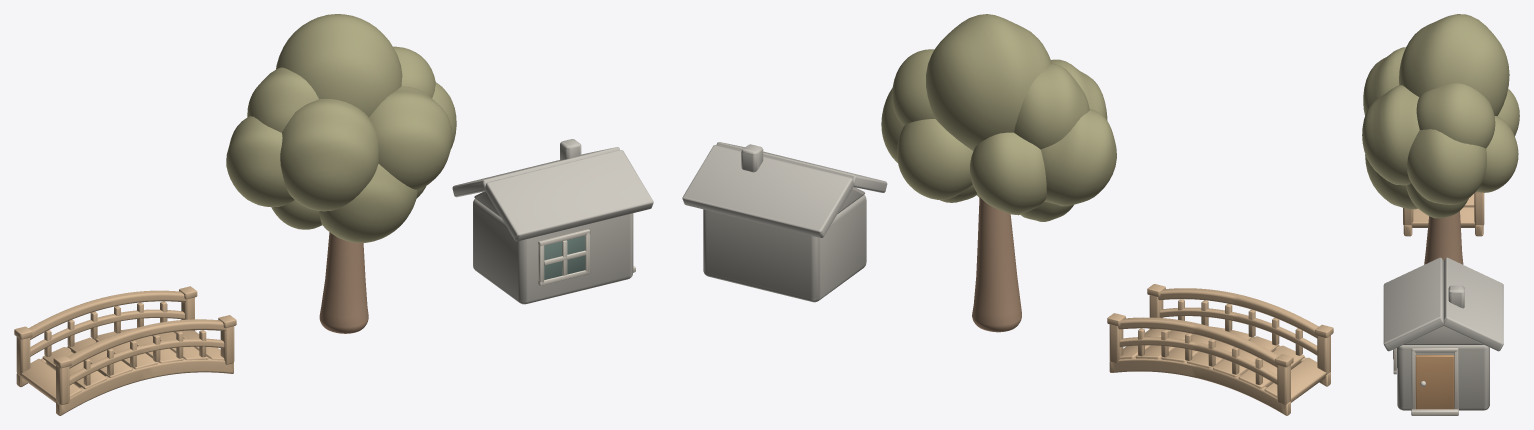
The model's file is park-referans-uclusu.glb.
3 renders of one model, left to right at view 1: azimuth 30°, elevation 25°; view 2: azimuth 150°, elevation 25°; view 3: azimuth 270°, elevation 25°, orthographic. The views are drawn at different scales.
Visible parts, largest first — view 1: 67R_AGAC_YUVARLAK_01_TAC, 67R_EV_KUCUK_01_BODY, 67R_KOPRU_KEMERLI_01_BODY, 67R_AGAC_YUVARLAK_01_GOVDE; view 2: 67R_AGAC_YUVARLAK_01_TAC, 67R_EV_KUCUK_01_BODY, 67R_KOPRU_KEMERLI_01_BODY, 67R_AGAC_YUVARLAK_01_GOVDE; view 3: 67R_AGAC_YUVARLAK_01_TAC, 67R_EV_KUCUK_01_BODY, 67R_AGAC_YUVARLAK_01_GOVDE, 67R_KOPRU_KEMERLI_01_BODY.
Part boxes in pixels (<box>): 67R_AGAC_YUVARLAK_01_TAC: <box>226,14,456,242</box>; 67R_EV_KUCUK_01_BODY: <box>452,139,653,304</box>; 67R_KOPRU_KEMERLI_01_BODY: <box>14,286,236,415</box>; 67R_AGAC_YUVARLAK_01_GOVDE: <box>319,232,368,333</box>; 67R_AGAC_YUVARLAK_01_TAC: <box>881,14,1116,221</box>; 67R_EV_KUCUK_01_BODY: <box>682,142,887,302</box>; 67R_KOPRU_KEMERLI_01_BODY: <box>1107,284,1333,415</box>; 67R_AGAC_YUVARLAK_01_GOVDE: <box>972,197,1021,332</box>; 67R_AGAC_YUVARLAK_01_TAC: <box>1362,14,1519,218</box>; 67R_EV_KUCUK_01_BODY: <box>1383,257,1503,415</box>; 67R_AGAC_YUVARLAK_01_GOVDE: <box>1424,211,1463,264</box>; 67R_KOPRU_KEMERLI_01_BODY: <box>1403,191,1484,236</box>.
Size of the model in its own units: 11.35 by 5.66 by 2.92.
